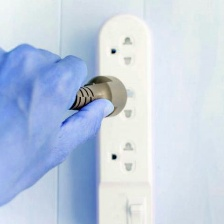three_eye_plug: (91, 7, 157, 223)
